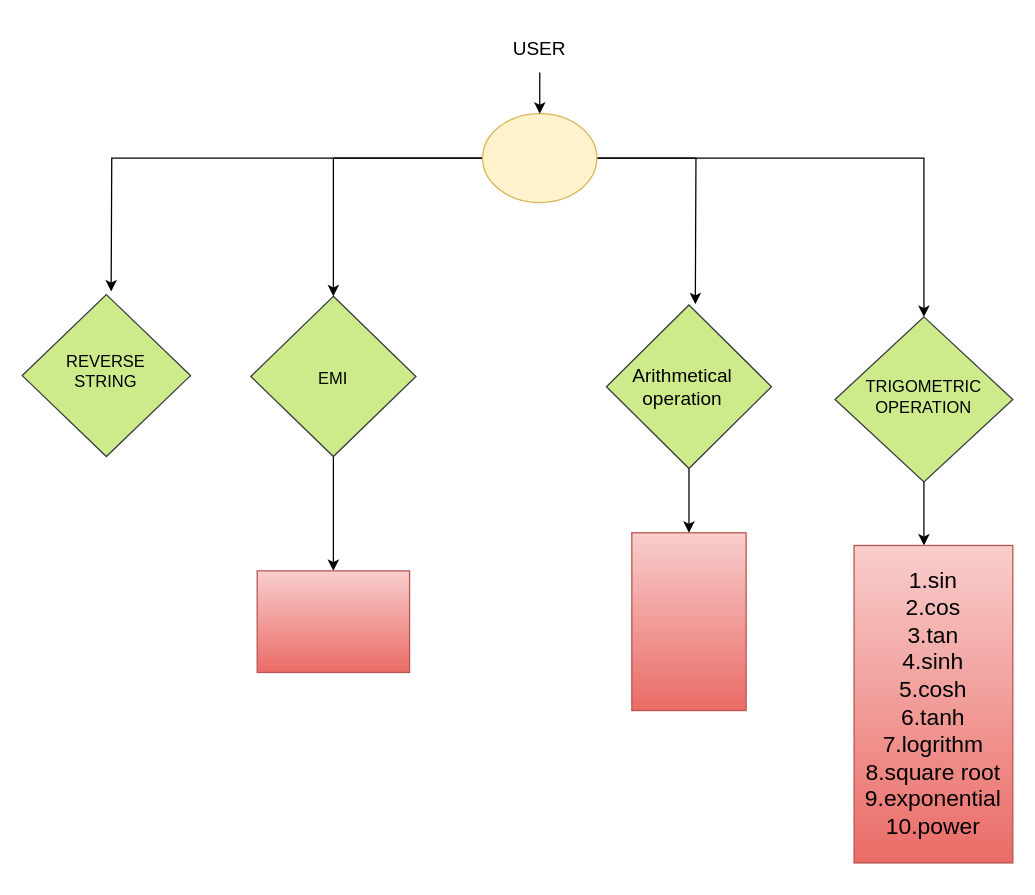
Image size: 1035x895. Some labels were removed from this diagram. The centre of each missing label's shape, as x and y in pixels:
"1.Add 2.Subtract 3.Multiply 4.Divide" goes at point 688,621.
"1.Total EMI 2.Monthly EMI" goes at point 333,621.
"Main menu" goes at point 539,157.
